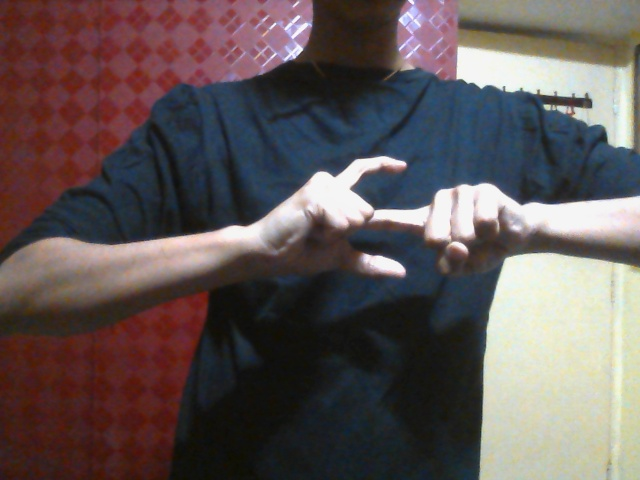E: (258, 151, 521, 285)
